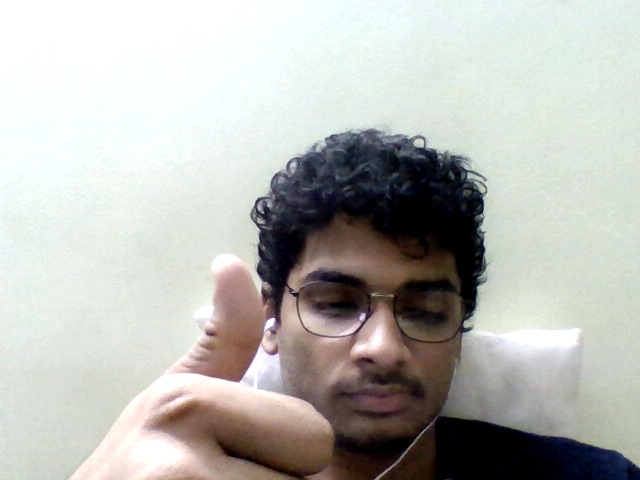ThumbsDown: (59, 254, 338, 480)
